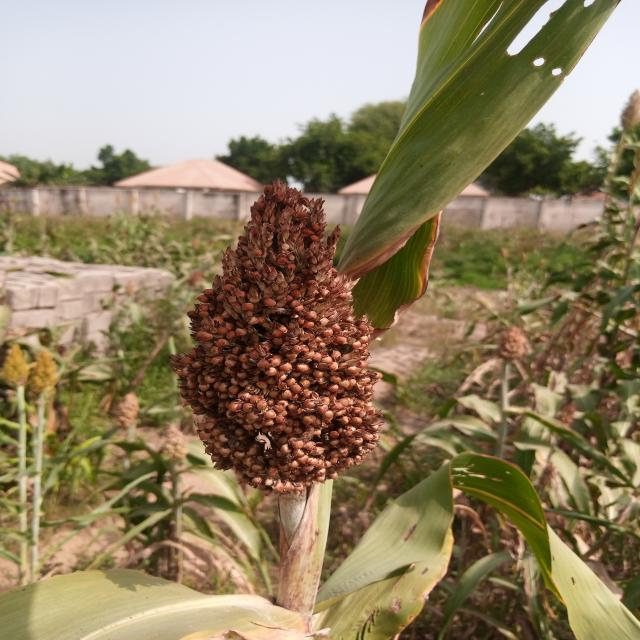RipeSorghum: (167, 164, 411, 486)
